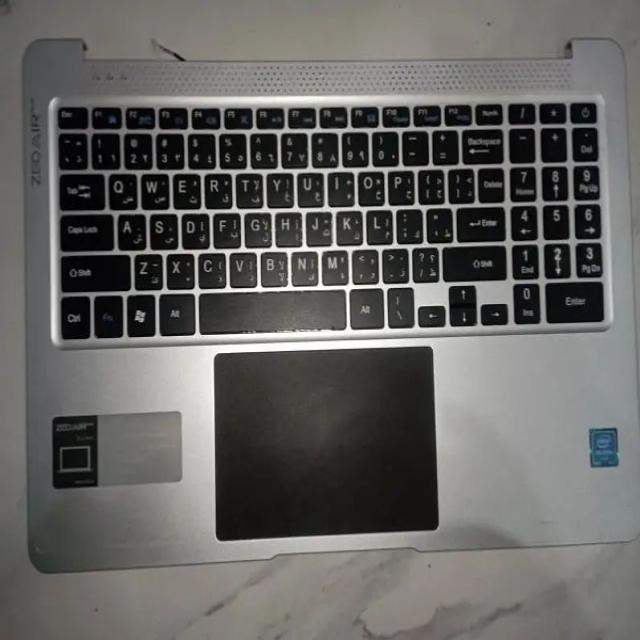electronic: (22, 34, 638, 571)
